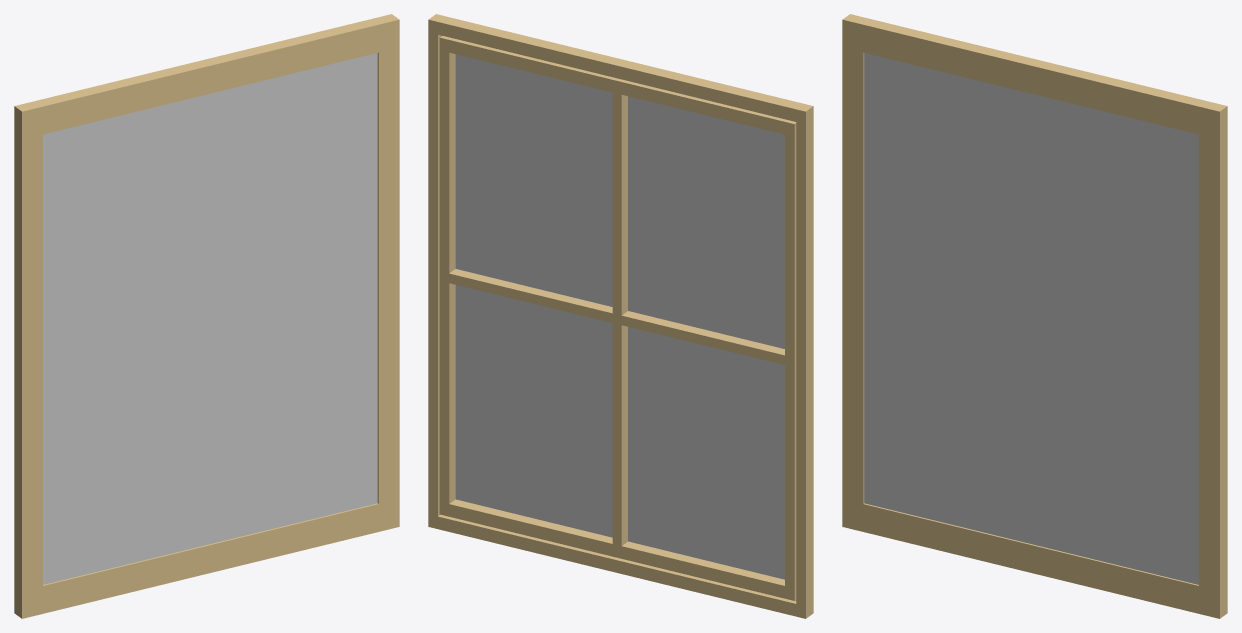
File: Fenetre.fbx
3 renders of one model, left to right at view 1: azimuth 30°, elevation 25°; view 2: azimuth 150°, elevation 25°; view 3: azimuth 330°, elevation 25°, orthographic.
Parts seen in each view (by area): view 1: Fenêtre; view 2: Fenêtre; view 3: Fenêtre.
Part boxes in pixels (left/top/right/bottom): Fenêtre: left=14, top=14, right=399, bottom=618; Fenêtre: left=428, top=14, right=813, bottom=618; Fenêtre: left=842, top=14, right=1227, bottom=618.
Size of the model in its own units: 849 by 1091 by 30.
